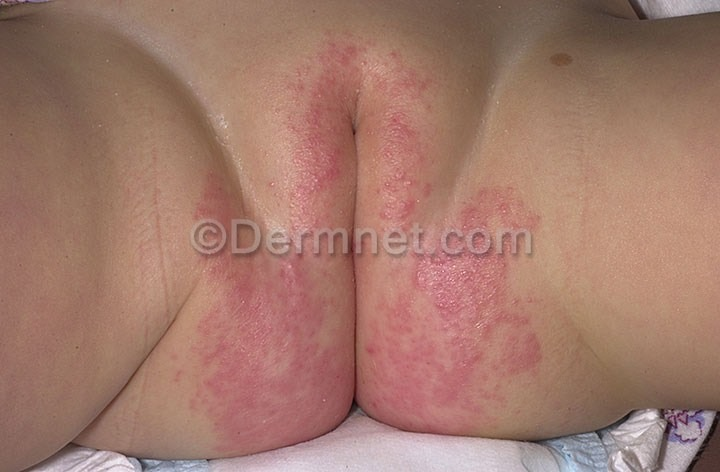Eczema: (443, 165, 521, 302), (358, 298, 443, 420), (206, 324, 300, 420), (448, 316, 529, 414), (375, 124, 435, 235), (280, 115, 337, 209), (204, 201, 266, 281), (378, 44, 432, 130), (271, 244, 343, 308)
